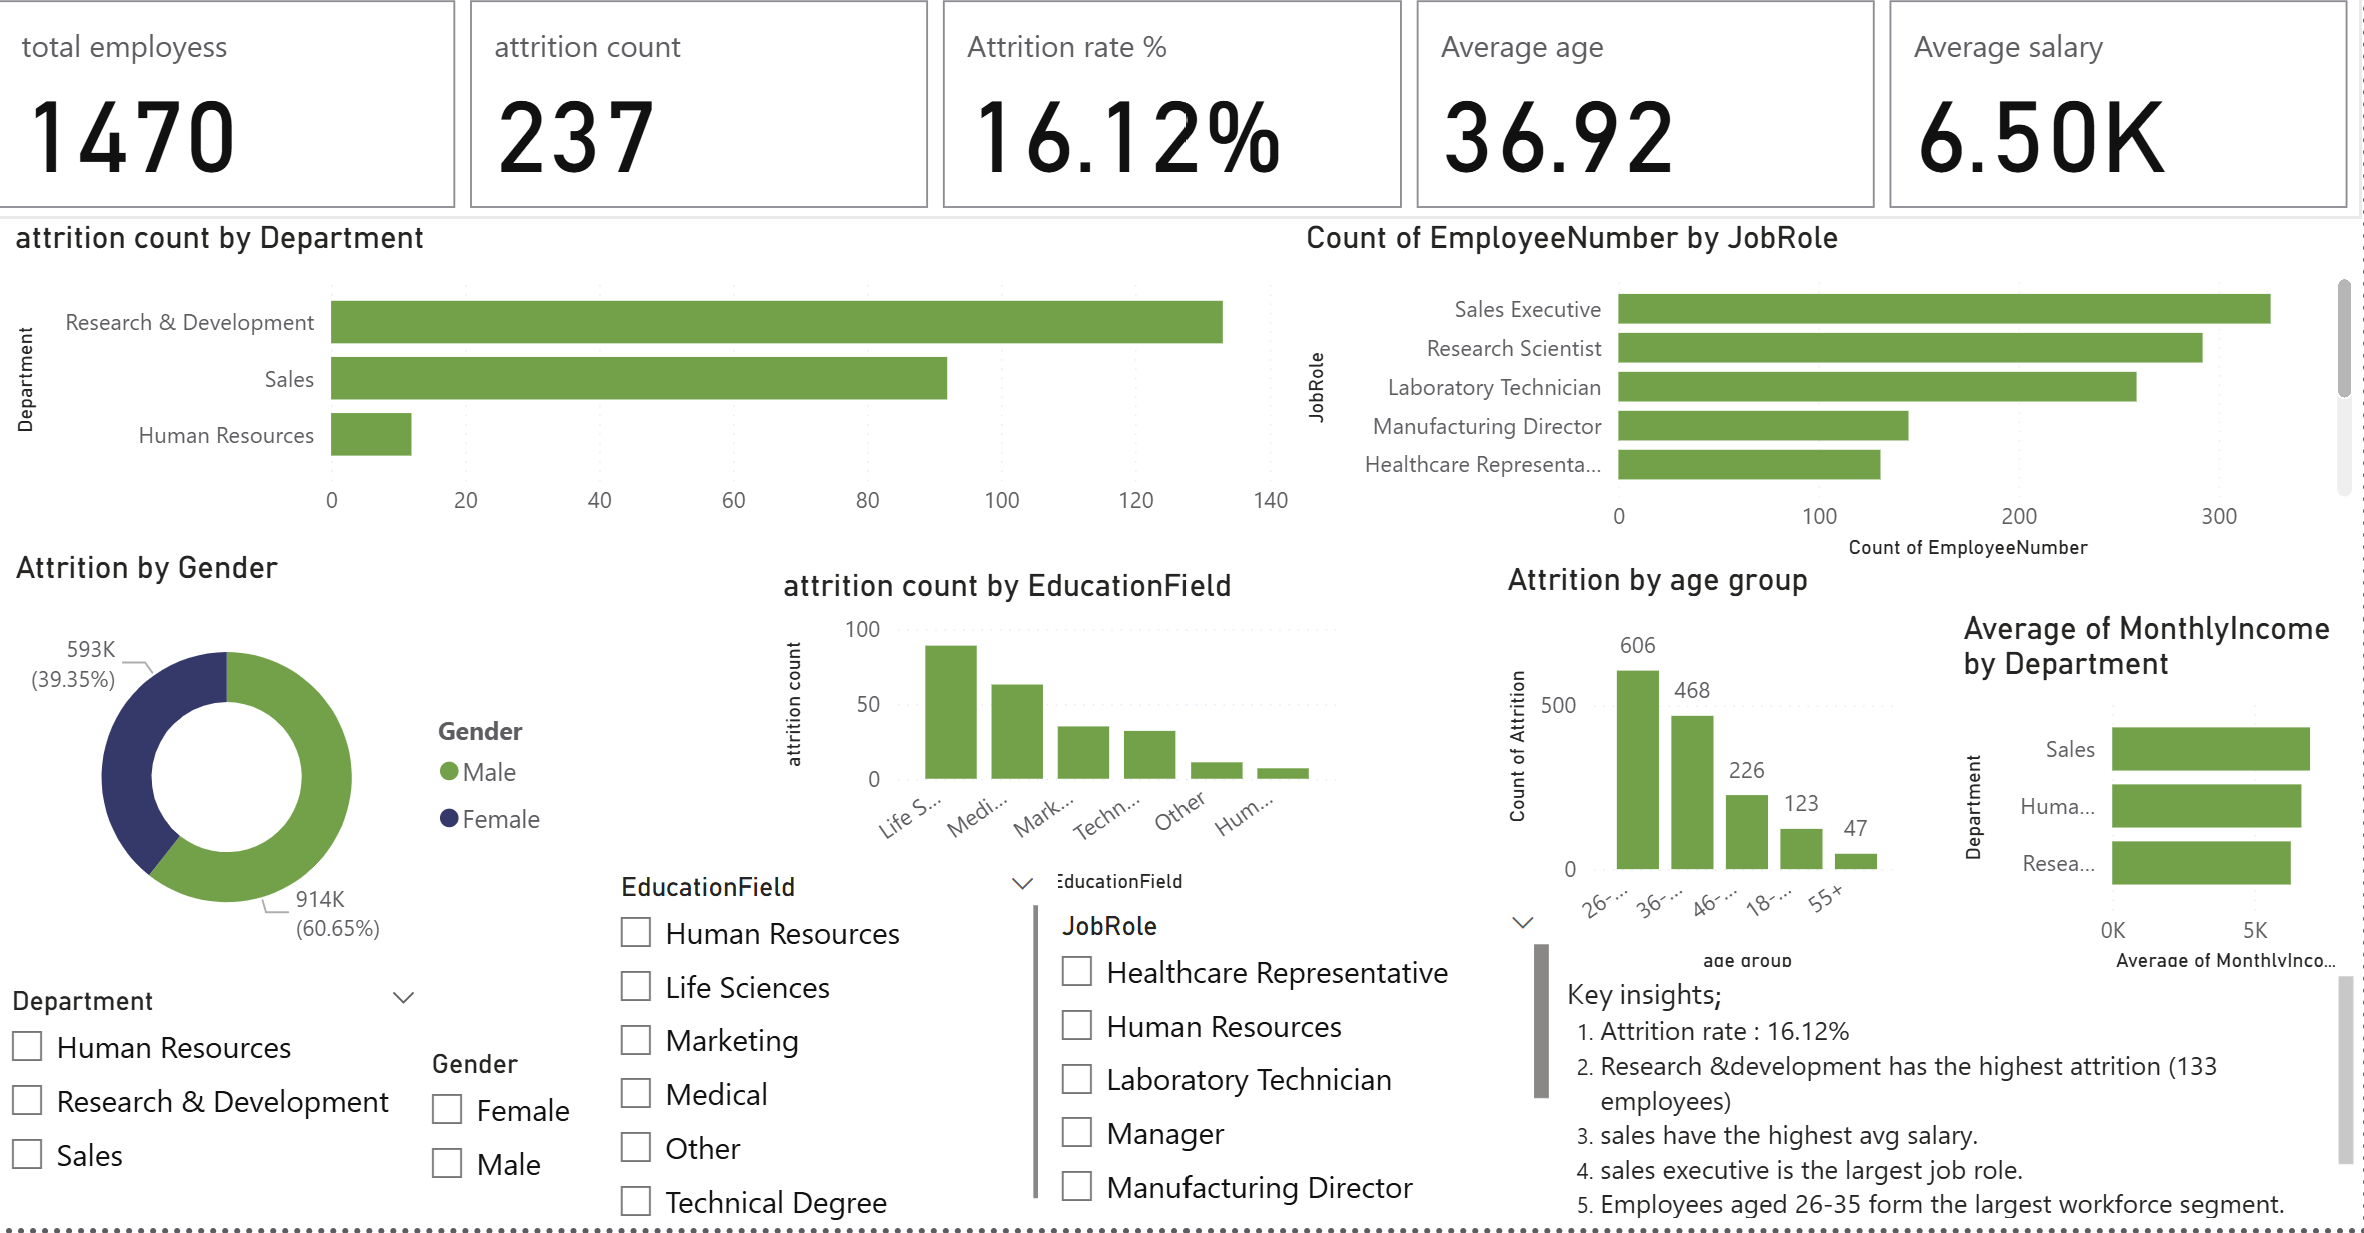

This screenshot's page, from the dashboard's own definition file:
{"tool":"powerbi","page":{"name":"Page 1","canvas":[1280,720],"ordinal":0},"visuals":[{"type":"columnChart","title":" Attrition by age group","fields":{"Category":["WA_Fn_UseC__HR_Employee_Attrition.age group"],"Y":["CountNonNull(WA_Fn_UseC__HR_Employee_Attrition.Attrition)"]},"box":[814,360,222,226],"z":0},{"type":"donutChart","title":"Attrition by Gender","fields":{"Category":["WA_Fn_UseC__HR_Employee_Attrition.Gender"],"Y":["Sum(WA_Fn_UseC__HR_Employee_Attrition.EmployeeNumber)"]},"box":[10,354,304,226],"z":1},{"type":"slicer","fields":{"Values":["WA_Fn_UseC__HR_Employee_Attrition.Department"]},"box":[0,584.6,243.1,135.9],"z":2},{"type":"cardVisual","fields":{"Data":["WA_Fn_UseC__HR_Employee_Attrition.total employess","WA_Fn_UseC__HR_Employee_Attrition.attrition count","WA_Fn_UseC__HR_Employee_Attrition.Attrition rate %","WA_Fn_UseC__HR_Employee_Attrition.Average age","WA_Fn_UseC__HR_Employee_Attrition.Average salary"]},"box":[0,54,1280,122],"z":3},{"type":"barChart","fields":{"Category":["WA_Fn_UseC__HR_Employee_Attrition.Department"],"Y":["WA_Fn_UseC__HR_Employee_Attrition.attrition count"]},"box":[10,176,696,170],"z":4},{"type":"clusteredBarChart","fields":{"Category":["WA_Fn_UseC__HR_Employee_Attrition.JobRole"],"Y":["CountNonNull(WA_Fn_UseC__HR_Employee_Attrition.EmployeeNumber)"]},"box":[706,176,574,188],"z":5},{"type":"barChart","fields":{"Category":["WA_Fn_UseC__HR_Employee_Attrition.Department"],"Y":["Avg(WA_Fn_UseC__HR_Employee_Attrition.MonthlyIncome)"]},"box":[1060,386,220,200],"z":6},{"type":"columnChart","fields":{"Category":["WA_Fn_UseC__HR_Employee_Attrition.EducationField"],"Y":["WA_Fn_UseC__HR_Employee_Attrition.attrition count"]},"box":[424,364,308,180],"z":7},{"type":"slicer","fields":{"Values":["WA_Fn_UseC__HR_Employee_Attrition.Gender"]},"box":[227,618.5,175.2,101.9],"z":8},{"type":"slicer","fields":{"Values":["WA_Fn_UseC__HR_Employee_Attrition.EducationField"]},"box":[328.9,522,248.5,198.4],"z":9},{"type":"slicer","fields":{"Values":["WA_Fn_UseC__HR_Employee_Attrition.JobRole"]},"box":[566,544,280,176],"z":10},{"type":"textbox","box":[846,580,434,140],"z":11},{"type":"textbox","box":[100,0,1070,54],"z":12}]}

Visuals, with their boxes on the page's 1280x720 design canvas (x1, y1, x2, y2). These are canvas units, not pixel positions in the 2364x1233 screenshot, which may show the page scaled, cropped or inside an application window:
" Attrition by age group" columnChart: crop(814, 360, 1036, 586)
"Attrition by Gender" donutChart: crop(10, 354, 314, 580)
slicer - WA_Fn_UseC__HR_Employee_Attrition.Department: crop(0, 585, 243, 720)
cardVisual - WA_Fn_UseC__HR_Employee_Attrition.total employess x WA_Fn_UseC__HR_Employee_Attrition.attrition count: crop(0, 54, 1280, 176)
barChart - WA_Fn_UseC__HR_Employee_Attrition.Department x WA_Fn_UseC__HR_Employee_Attrition.attrition count: crop(10, 176, 706, 346)
clusteredBarChart - WA_Fn_UseC__HR_Employee_Attrition.JobRole x CountNonNull(WA_Fn_UseC__HR_Employee_Attrition.EmployeeNumber): crop(706, 176, 1280, 364)
barChart - WA_Fn_UseC__HR_Employee_Attrition.Department x Avg(WA_Fn_UseC__HR_Employee_Attrition.MonthlyIncome): crop(1060, 386, 1280, 586)
columnChart - WA_Fn_UseC__HR_Employee_Attrition.EducationField x WA_Fn_UseC__HR_Employee_Attrition.attrition count: crop(424, 364, 732, 544)
slicer - WA_Fn_UseC__HR_Employee_Attrition.Gender: crop(227, 618, 402, 720)
slicer - WA_Fn_UseC__HR_Employee_Attrition.EducationField: crop(329, 522, 577, 720)
slicer - WA_Fn_UseC__HR_Employee_Attrition.JobRole: crop(566, 544, 846, 720)
textbox: crop(846, 580, 1280, 720)
textbox: crop(100, 0, 1170, 54)
